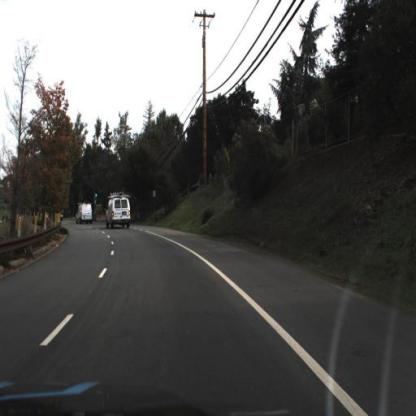car: (106, 193, 132, 229), (73, 197, 94, 222)
